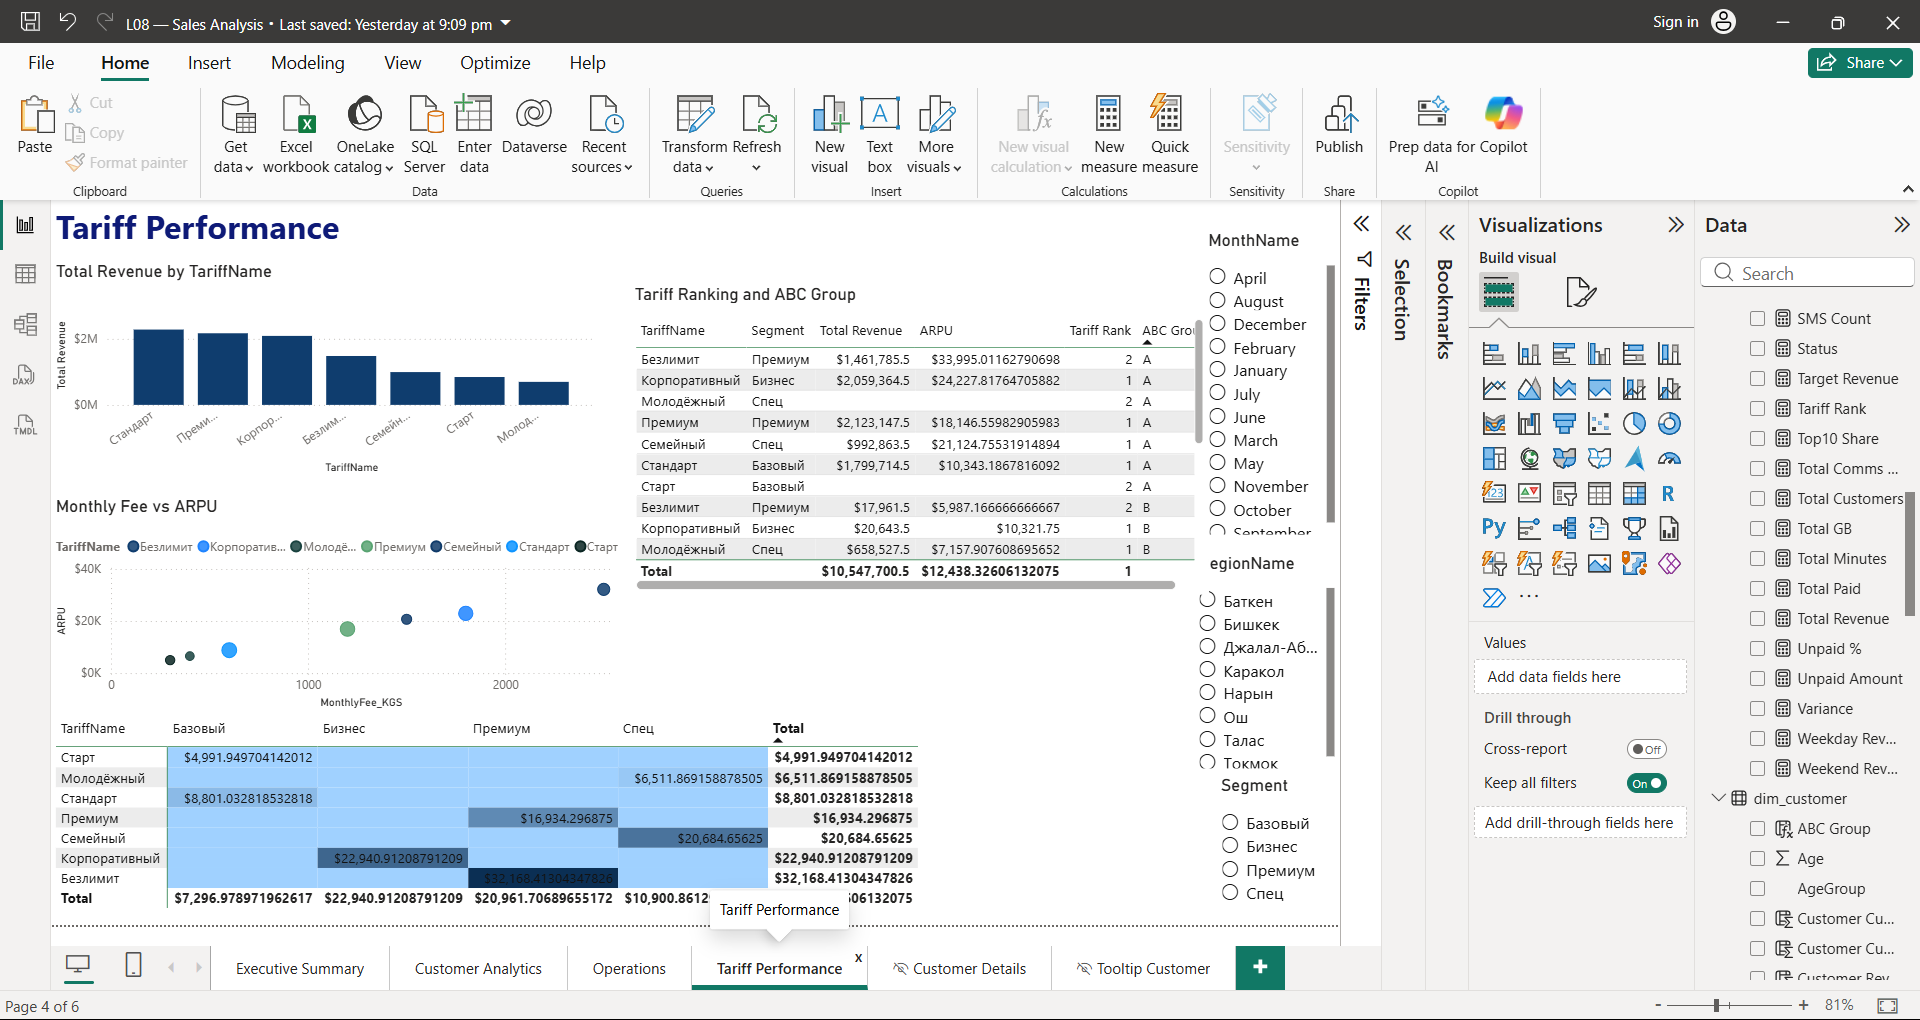

The page's visual inventory and layout, read from the dashboard file:
{"tool":"powerbi","page":{"name":"Tariff Performance","canvas":[1280,720],"ordinal":3},"visuals":[{"type":"textbox","box":[0,0,310.1,60.4],"z":0},{"type":"listSlicer","fields":{"Values":["dim_date.MonthName"]},"box":[1144.4,30.2,135.8,307.4],"z":1},{"type":"listSlicer","fields":{"Values":["dim_region.RegionName"]},"box":[1134.8,349.9,145.5,219.6],"z":2},{"type":"listSlicer","fields":{"Values":["dim_tariff.Segment"]},"box":[1156.8,570.8,123.5,149.6],"z":3},{"type":"clusteredColumnChart","fields":{"Category":["dim_tariff.TariffName"],"Y":["_Measures.Total Revenue"]},"box":[0,60.4,546.1,215.4],"z":4},{"type":"pivotTable","fields":{"Rows":["dim_tariff.TariffName"],"Columns":["dim_tariff.Segment"],"Values":["_Measures.ARPU"]},"box":[0,509.1,874.1,211.3],"z":5},{"type":"scatterChart","title":"Monthly Fee vs ARPU","fields":{"X":["dim_tariff.MonthlyFee_KGS"],"Y":["_Measures.ARPU"],"Series":["dim_tariff.TariffName"],"Size":["_Measures.Total Revenue"]},"box":[0,293.7,575,215.4],"z":6},{"type":"tableEx","title":"Tariff Ranking and ABC Group","fields":{"Values":["dim_tariff.TariffName","dim_tariff.Segment","_Measures.Total Revenue","_Measures.ARPU","_Measures.Tariff Rank","dim_customer.ABC Group"]},"box":[575,83.7,575,308.7],"z":7}]}

Visuals, with their boxes on the page's 1280x720 design canvas (x1, y1, x2, y2). These are canvas units, not pixel positions in the 1920x1020 screenshot, which may show the page scaled, cropped or inside an application window:
textbox: x1=0 y1=0 x2=310 y2=60
listSlicer - dim_date.MonthName: x1=1144 y1=30 x2=1280 y2=338
listSlicer - dim_region.RegionName: x1=1135 y1=350 x2=1280 y2=570
listSlicer - dim_tariff.Segment: x1=1157 y1=571 x2=1280 y2=720
clusteredColumnChart - dim_tariff.TariffName x _Measures.Total Revenue: x1=0 y1=60 x2=546 y2=276
pivotTable - dim_tariff.TariffName x dim_tariff.Segment: x1=0 y1=509 x2=874 y2=720
"Monthly Fee vs ARPU" scatterChart: x1=0 y1=294 x2=575 y2=509
"Tariff Ranking and ABC Group" tableEx: x1=575 y1=84 x2=1150 y2=392
